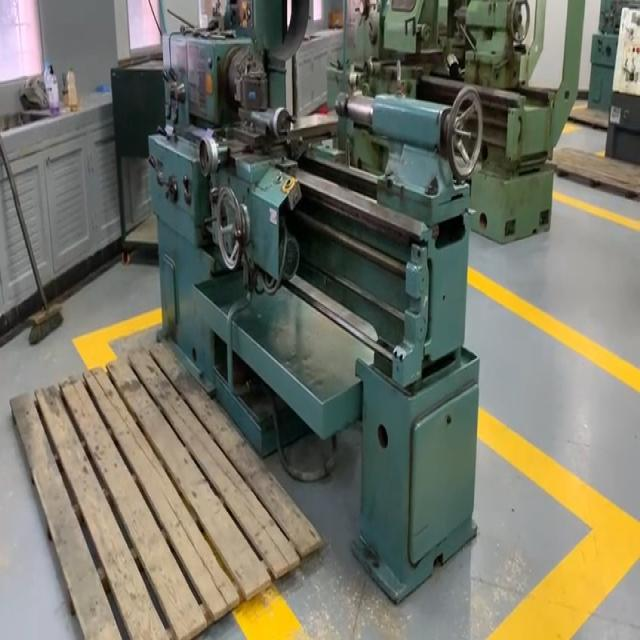tour parallele: (149, 0, 481, 600)
